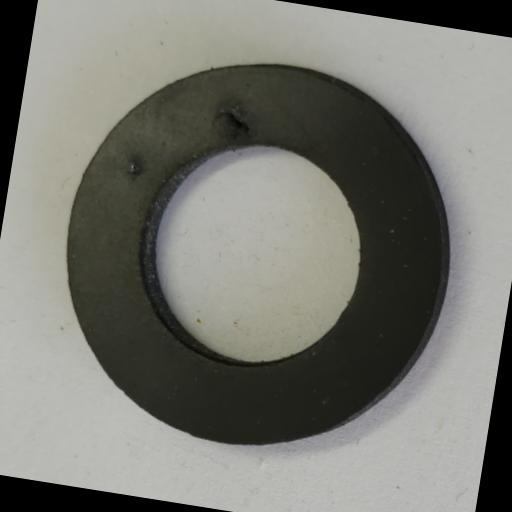defect: (212, 102, 258, 142), (123, 154, 148, 178)
